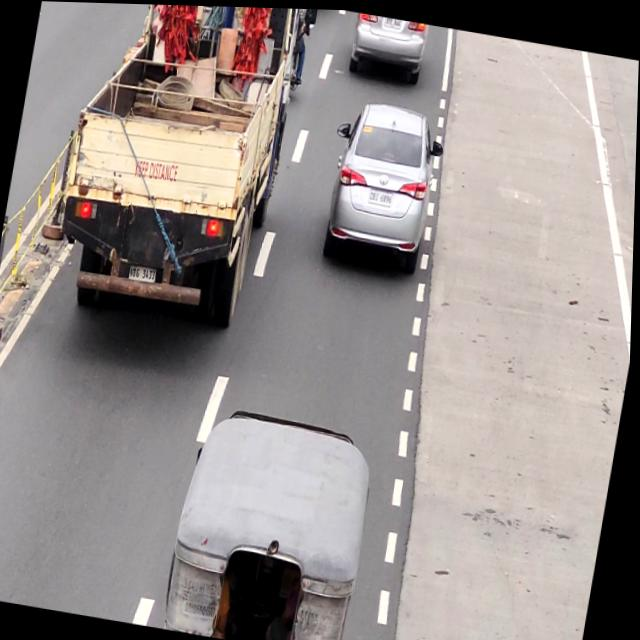Car: (323, 98, 441, 275), (345, 10, 429, 79)
Jeep: (167, 401, 383, 640)
License-Plate: (129, 261, 161, 284), (368, 186, 397, 206), (383, 14, 404, 29)
Truck: (60, 2, 315, 332)
